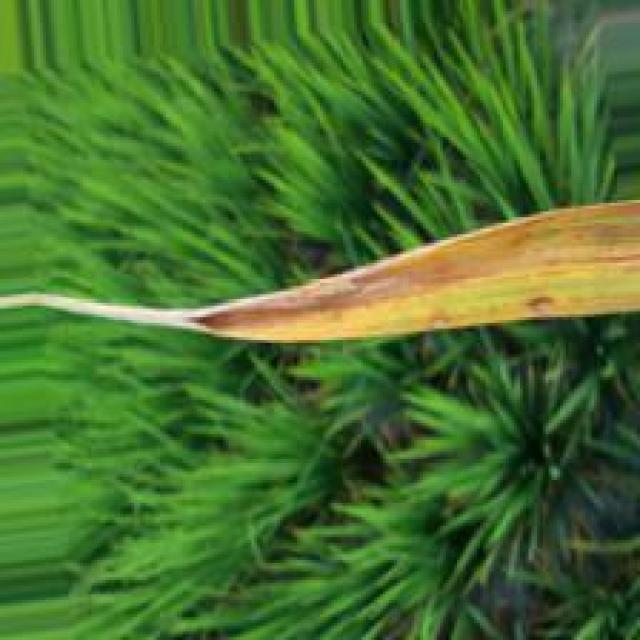Bacterial_Leaf_Blight: (191, 199, 640, 340)
